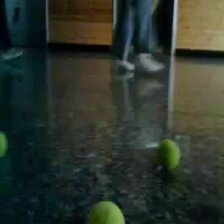tennis: (84, 200, 125, 224), (154, 139, 181, 173)
